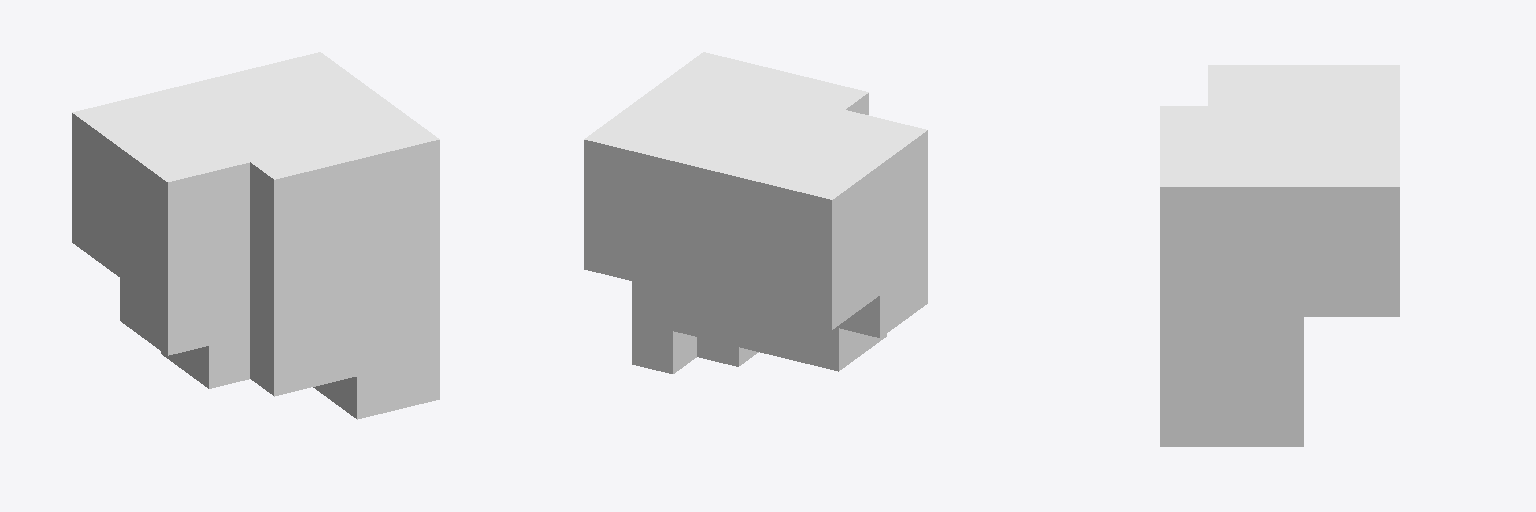
File: Koala_B.obj
The picture shows the model from 3 angles: view 1: azimuth 30°, elevation 25°; view 2: azimuth 150°, elevation 25°; view 3: azimuth 270°, elevation 25°; orthographic projection.
Visible parts, largest first — view 1: object 1; view 2: object 1; view 3: object 1.
Boxes of the visible parts, <box> form: object 1: <box>72,52,439,419</box>; object 1: <box>584,52,927,373</box>; object 1: <box>1160,65,1399,446</box>.
Size of the model in its own units: 0.6 by 0.6 by 0.5.